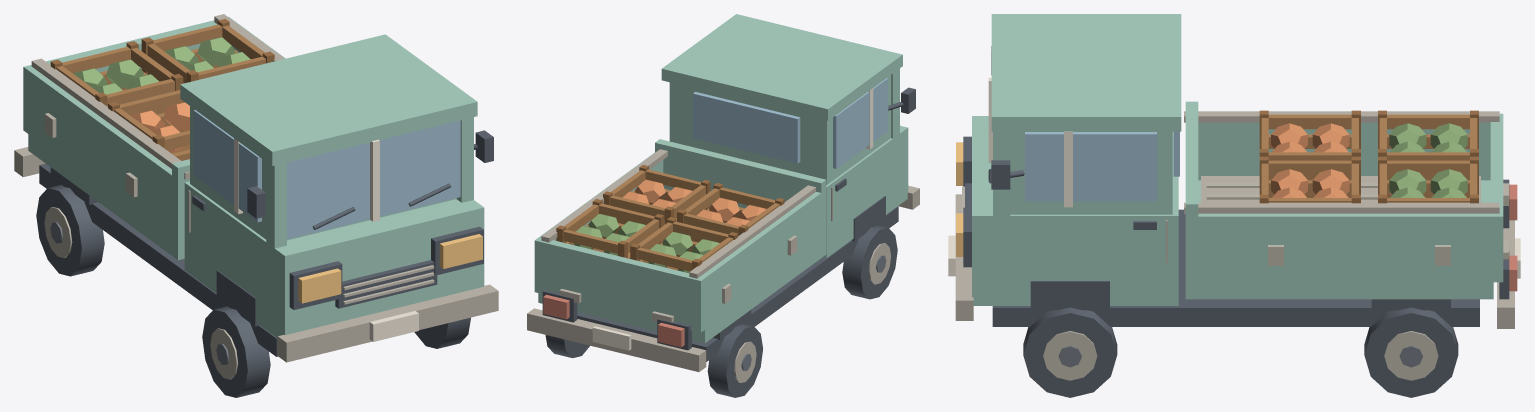
Rendered from komachi-kei-farm.glb.
3 renders of one model, left to right at view 1: azimuth 30°, elevation 25°; view 2: azimuth 150°, elevation 25°; view 3: azimuth 270°, elevation 25°, orthographic. The views are drawn at different scales.
Visible parts, largest first — view 1: Body_Paint, Trim_Glass_And_Chassis, Cargo_Crates, Wheel_Left_Front, Wheel_Left_Rear, Headlights, Wheel_Right_Front; view 2: Body_Paint, Trim_Glass_And_Chassis, Cargo_Crates, Wheel_Left_Front, Wheel_Left_Rear, Taillights, Wheel_Right_Rear; view 3: Body_Paint, Trim_Glass_And_Chassis, Cargo_Crates, Wheel_Right_Front, Wheel_Right_Rear, Headlights, Taillights.
Boxes of the visible parts, box(x1,y1,x2,y2) form: Body_Paint: box(23, 16, 484, 337); Trim_Glass_And_Chassis: box(14, 14, 498, 362); Cargo_Crates: box(50, 18, 274, 160); Wheel_Left_Front: box(202, 306, 270, 397); Wheel_Left_Rear: box(36, 185, 104, 276); Headlights: box(298, 234, 482, 303); Wheel_Right_Front: box(414, 317, 470, 348); Body_Paint: box(534, 14, 908, 343); Trim_Glass_And_Chassis: box(527, 78, 919, 371); Cargo_Crates: box(556, 165, 784, 273); Wheel_Left_Front: box(842, 225, 897, 299); Wheel_Left_Rear: box(707, 323, 763, 397); Taillights: box(543, 294, 684, 347); Wheel_Right_Rear: box(545, 335, 589, 358); Body_Paint: box(972, 14, 1503, 305); Trim_Glass_And_Chassis: box(948, 46, 1520, 328); Cargo_Crates: box(1259, 110, 1478, 203); Wheel_Right_Front: box(1023, 307, 1117, 397); Wheel_Right_Rear: box(1364, 307, 1458, 397); Headlights: box(956, 142, 963, 256); Taillights: box(1509, 184, 1517, 291).
Bounding box in the file's own units: 0.312 × 0.338 × 0.634.
